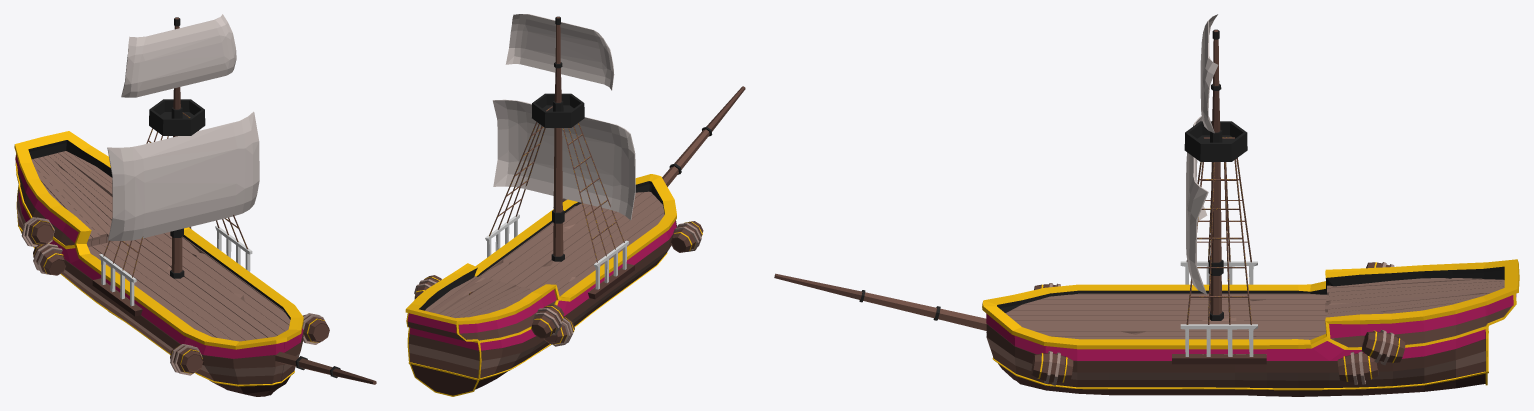
Rendered from TinyEnemyBoat.fbx.
The picture shows the model from 3 angles, left to right: view 1: azimuth 30°, elevation 25°; view 2: azimuth 150°, elevation 25°; view 3: azimuth 270°, elevation 25°; orthographic projection. The views are drawn at different scales.
Parts seen in each view (by area): view 1: Handle, Boat, LowerFloor, FloorLower, Barrels.003, Boat.001, Escote, Barrels.001, Barrels.002, Boat.002; view 2: Handle, Boat, LowerFloor, FloorLower, Boat.002, Boat.001, Barrels.002, Escote, Barrels.003, Barrels.001; view 3: Boat, LowerFloor, Handle, FloorLower, Boat.002, Escote, Boat.001, Barrels.002, Barrels.003, Barrels.001.
Part boxes in pixels (x1,y1,x2,y2): Handle: [107, 14, 259, 278]; Boat: [14, 131, 303, 396]; LowerFloor: [88, 232, 290, 341]; FloorLower: [31, 151, 112, 241]; Barrels.003: [170, 313, 329, 375]; Boat.001: [99, 226, 252, 306]; Escote: [275, 352, 376, 384]; Barrels.001: [33, 227, 191, 275]; Barrels.002: [21, 217, 54, 246]; Boat.002: [103, 112, 247, 277]; Handle: [492, 14, 635, 261]; Boat: [405, 174, 676, 396]; LowerFloor: [479, 191, 664, 296]; FloorLower: [425, 276, 534, 318]; Boat.002: [489, 106, 624, 262]; Boat.001: [485, 214, 628, 289]; Barrels.002: [414, 275, 564, 338]; Escote: [662, 86, 745, 186]; Barrels.003: [553, 198, 703, 252]; Barrels.001: [543, 317, 574, 346]; Boat: [982, 259, 1519, 396]; LowerFloor: [1005, 293, 1328, 339]; Handle: [1184, 14, 1247, 320]; FloorLower: [1325, 278, 1504, 317]; Boat.002: [1186, 137, 1251, 324]; Escote: [774, 273, 986, 330]; Boat.001: [1180, 261, 1257, 356]; Barrels.002: [1362, 262, 1405, 365]; Barrels.003: [1031, 283, 1073, 385]; Barrels.001: [1337, 351, 1378, 384].
Bounding box in the file's own units: 788 × 1576 × 2955.
